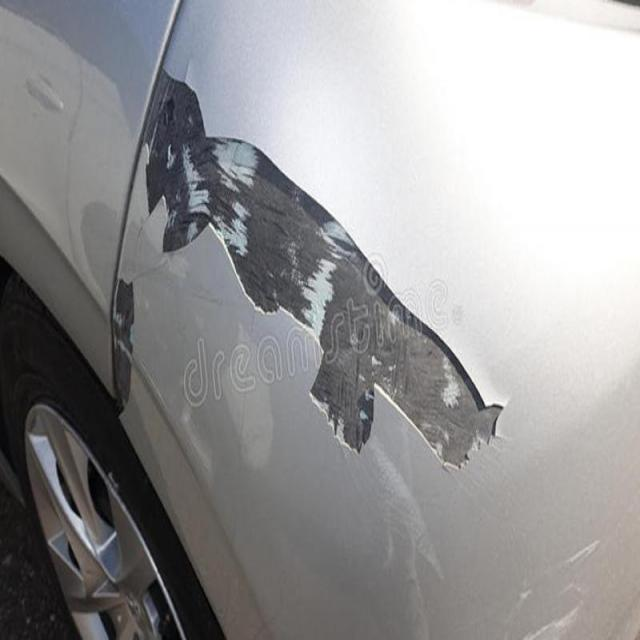scratch: (89, 58, 513, 560)
